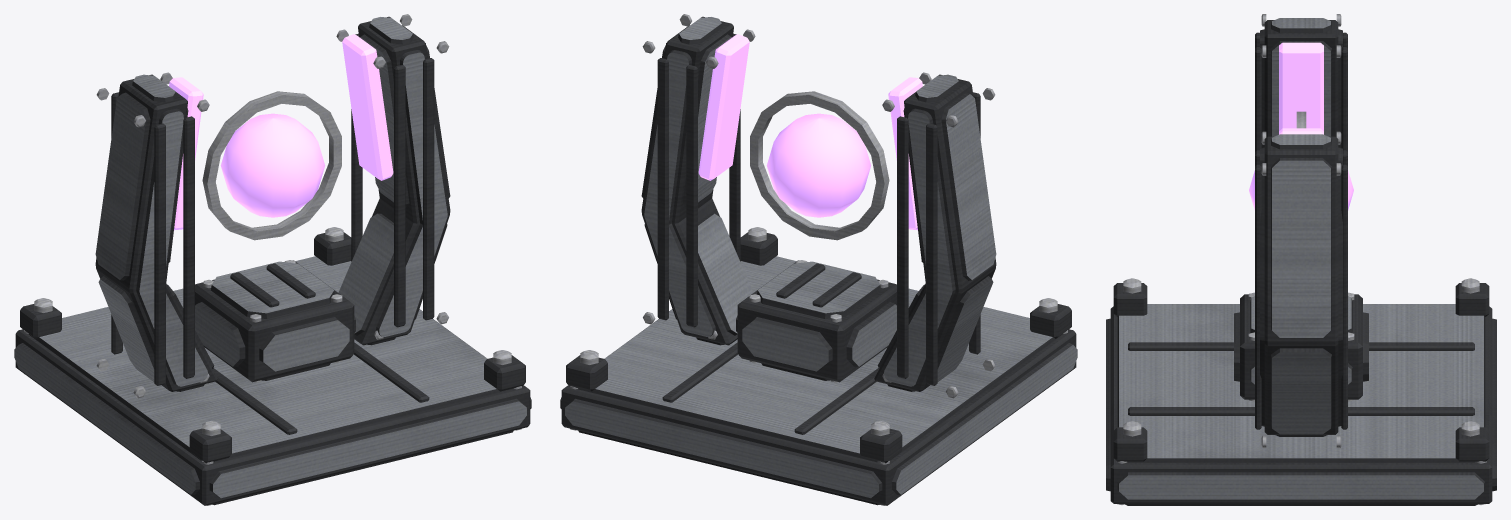
File: R4X_Blink.glb
3 views of the same model, side by side, from view 1: azimuth 30°, elevation 25°; view 2: azimuth 150°, elevation 25°; view 3: azimuth 270°, elevation 25° (orthographic).
Parts seen in each view (by area): view 1: R4X_Blink_Body; view 2: R4X_Blink_Body; view 3: R4X_Blink_Body.
Part boxes in pixels (x1=…): R4X_Blink_Body: x1=14, y1=14, x2=531, y2=505; R4X_Blink_Body: x1=560, y1=14, x2=1077, y2=505; R4X_Blink_Body: x1=1106, y1=14, x2=1496, y2=505.
Bounding box in the file's own units: 0.52 × 0.51 × 0.52.
Materials: 4 (3 with a texture image).
